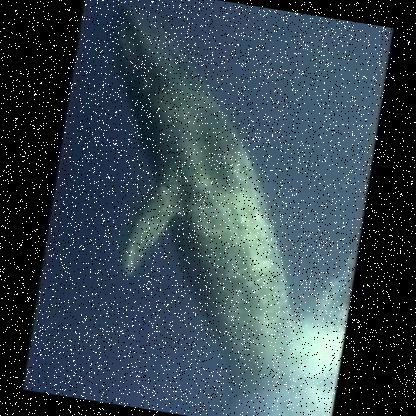blue_whale: (24, 0, 392, 415)
